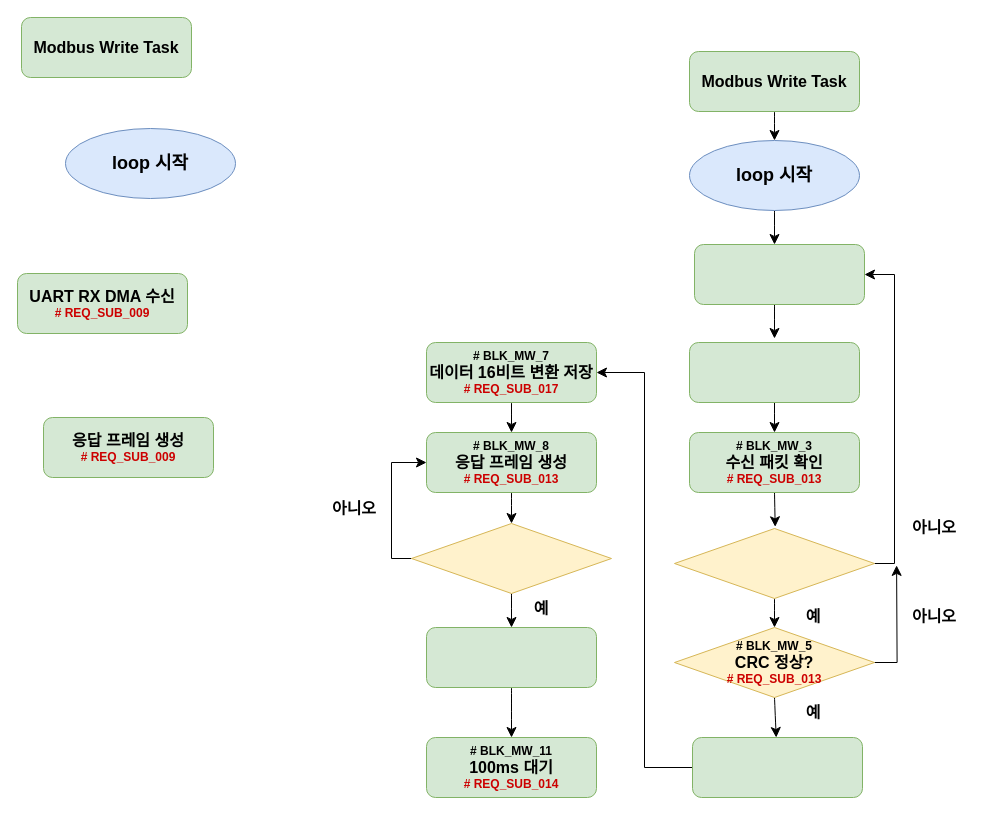
Image size: 982x815. Some labels were removed from this diagram. The shapes that lost their labels are listed below. From the top down, each one's centre as x and y in pixels, then its label:
At (779,274): "# BLK_MW_1 UART RX DMA 수신 # REQ_SUB_013".
At (774,372): "# BLK_MW_2 CRC 계산 # REQ_SUB_017".
At (511,558): "# BLK_MW_9 응답 프레임 정상? # REQ_SUB_013".
At (774,563): "# BLK_MW_4 패킷 길이 정상? # REQ_SUB_013".
At (511,657): "# BLK_MW_10 UART DMA 송신 # REQ_SUB_013".
At (777,767): "# BLK_MW_6 데이터 파싱 # REQ_SUB_017".
